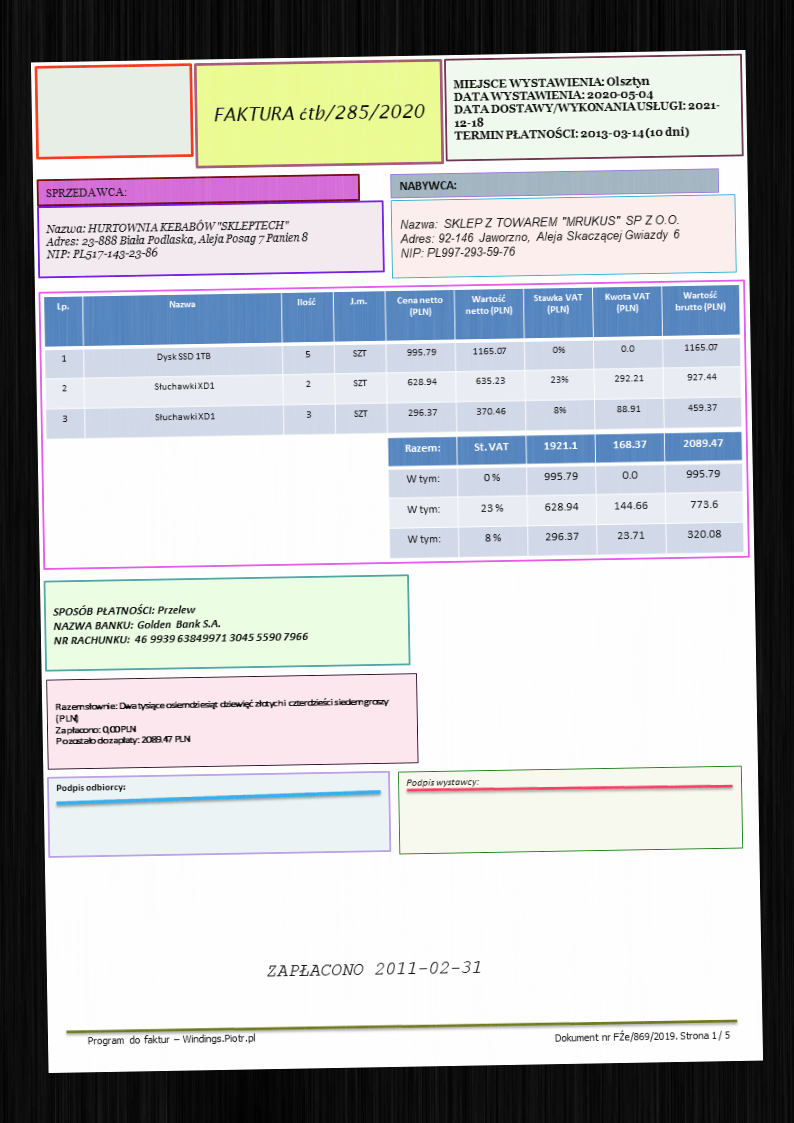Table: (42, 284, 741, 440), (386, 430, 745, 559)
TextBox: (452, 73, 722, 143), (52, 694, 392, 747), (398, 211, 682, 261), (51, 599, 310, 648), (44, 217, 308, 262), (212, 99, 426, 127), (265, 959, 483, 981), (552, 1027, 731, 1049), (85, 1032, 257, 1049), (43, 185, 129, 201), (52, 781, 130, 796), (398, 178, 458, 195), (404, 777, 480, 790)
